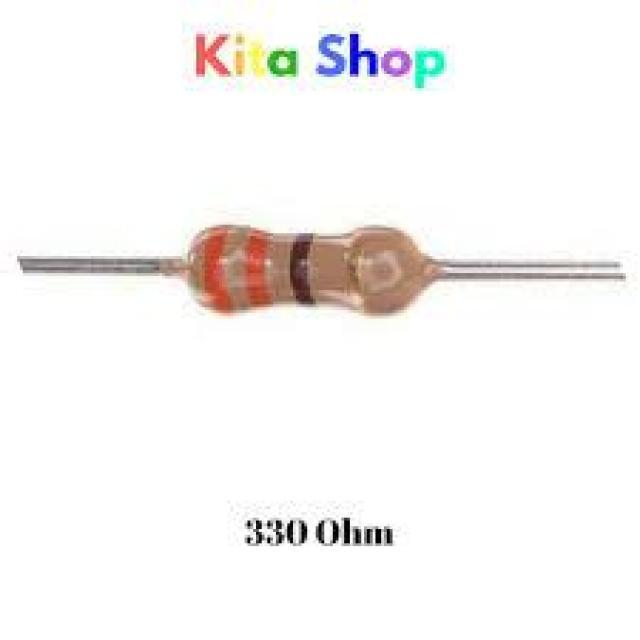Resistor Carbon-Film: (179, 224, 430, 320)
